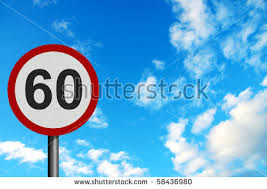Speed_limit_60km: (7, 44, 101, 136)
